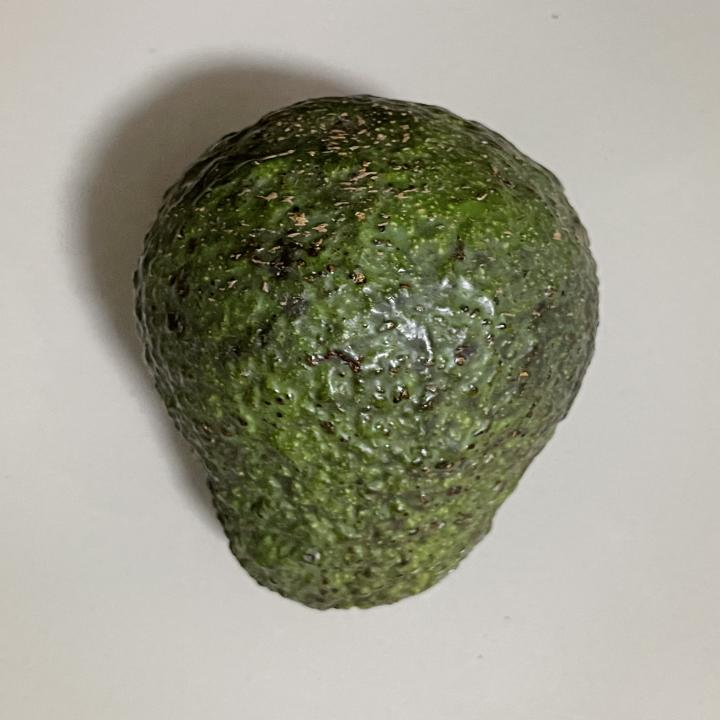Level1: (126, 86, 608, 624)
